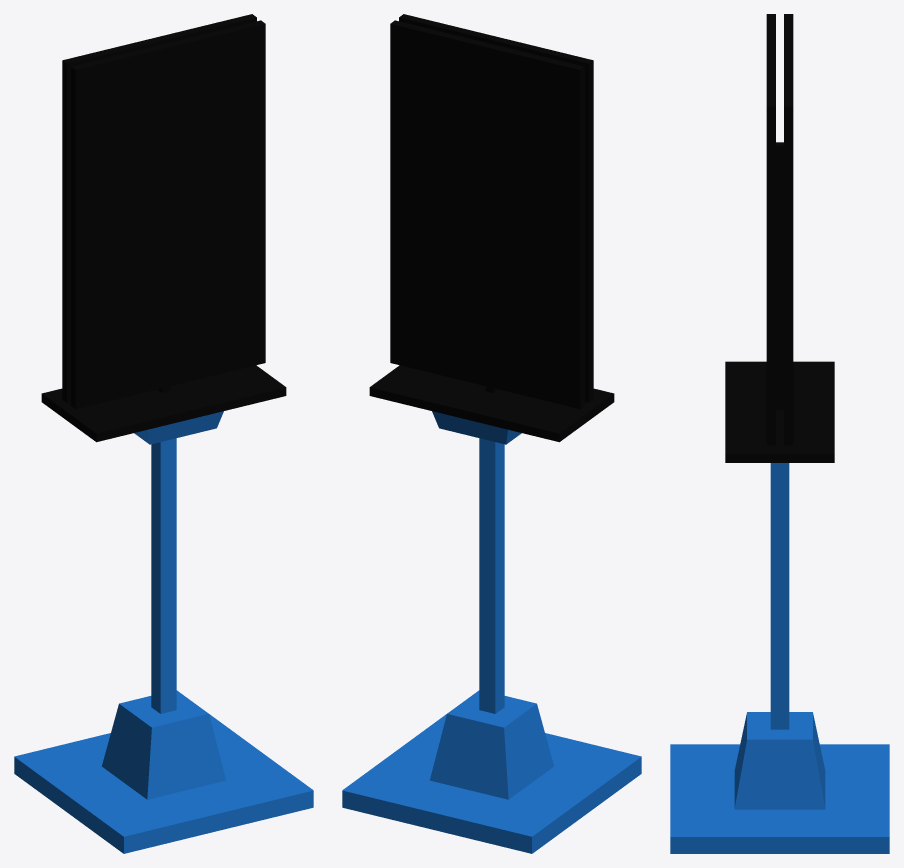
File: SM_floor_stand.fbx
3 renders of one model, left to right at view 1: azimuth 30°, elevation 25°; view 2: azimuth 150°, elevation 25°; view 3: azimuth 270°, elevation 25°, orthographic.
Parts seen in each view (by area): view 1: Cube_25; view 2: Cube_25; view 3: Cube_25.
Part boxes in pixels (bbox=[...]): Cube_25: bbox=[14, 14, 313, 853]; Cube_25: bbox=[342, 14, 641, 853]; Cube_25: bbox=[670, 14, 889, 853].
Size of the model in its own units: 46.3 by 174 by 46.3.
